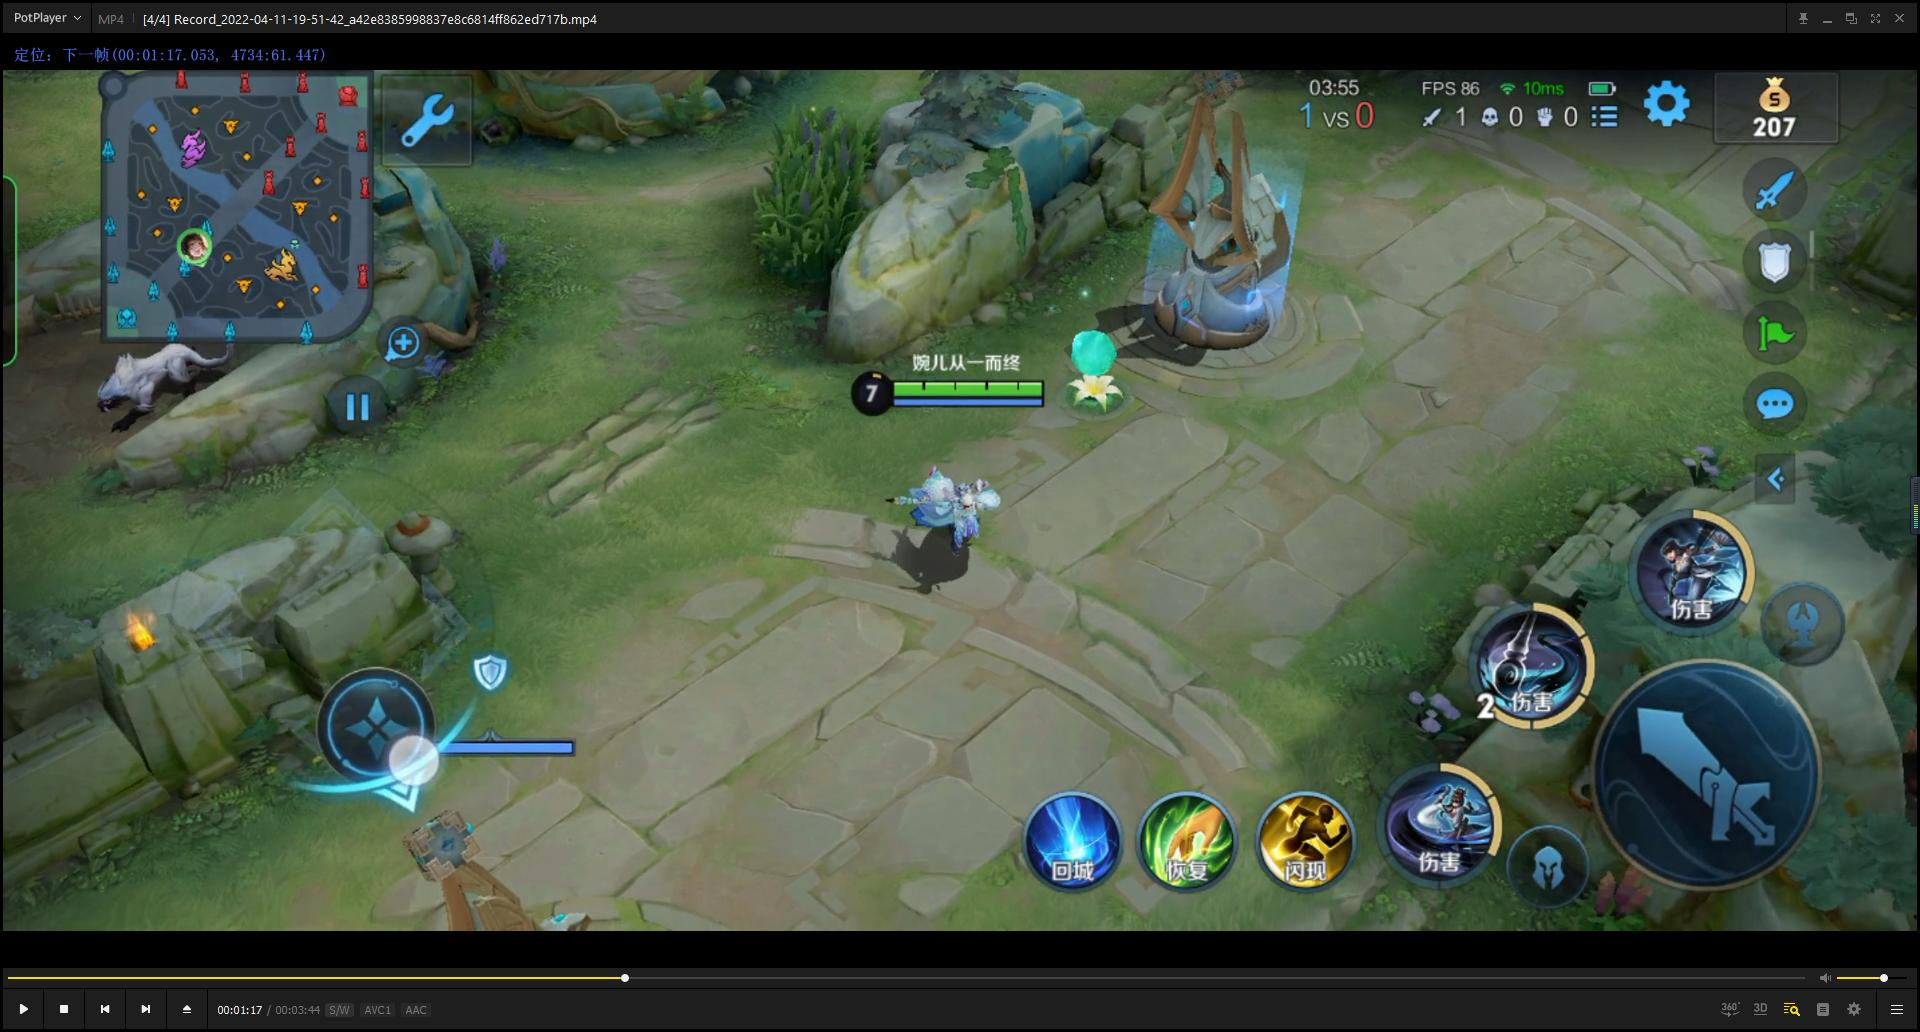Hero: (872, 450, 1022, 605)
Tower: (355, 723, 642, 934), (1118, 86, 1329, 353)
Wolf: (64, 332, 245, 454)
